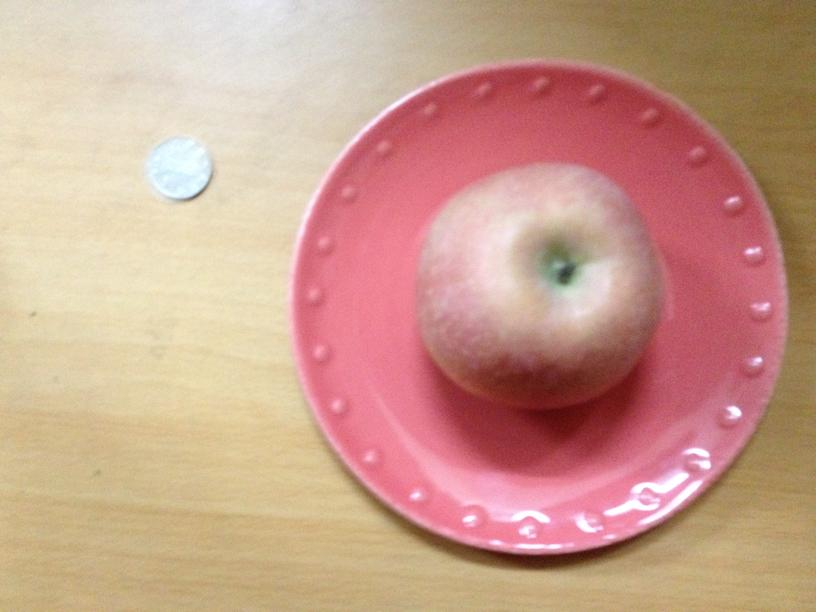apple: (415, 156, 662, 412)
coin: (145, 134, 212, 200)
